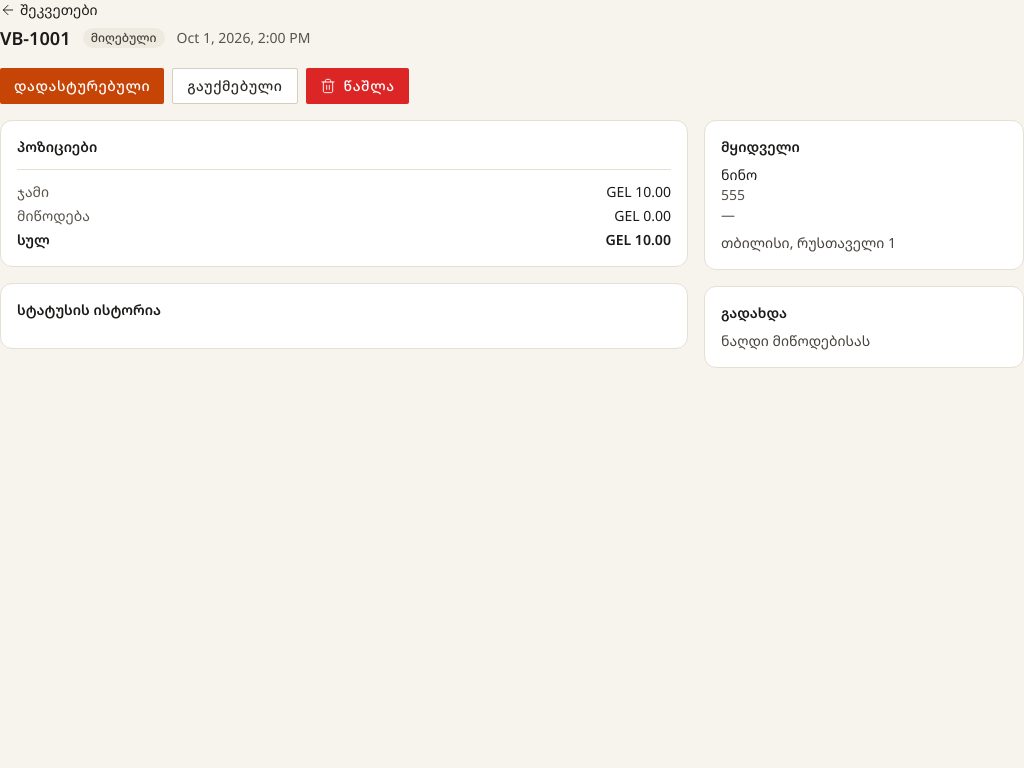
Test case: OrderDetail move to trash › shows the server message and keeps the page usable when trashing fails
Click the button "წაშლა" at (357, 86), box [306,68,409,104]
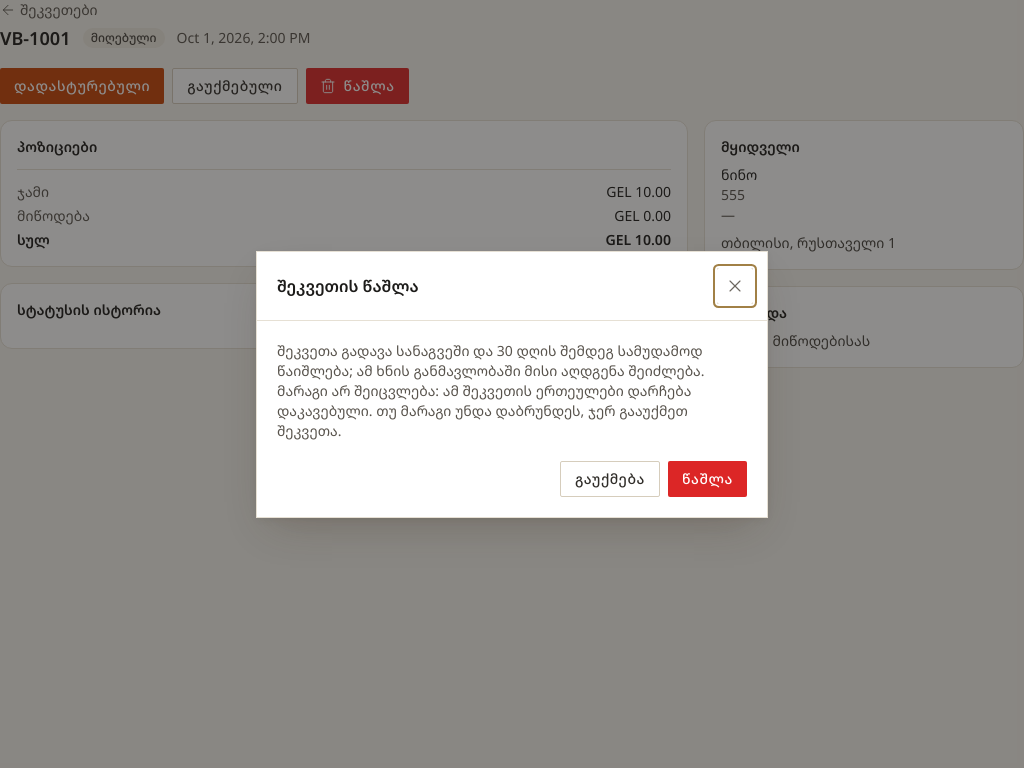
Click the button "წაშლა" at (708, 478), box [668,460,747,496]
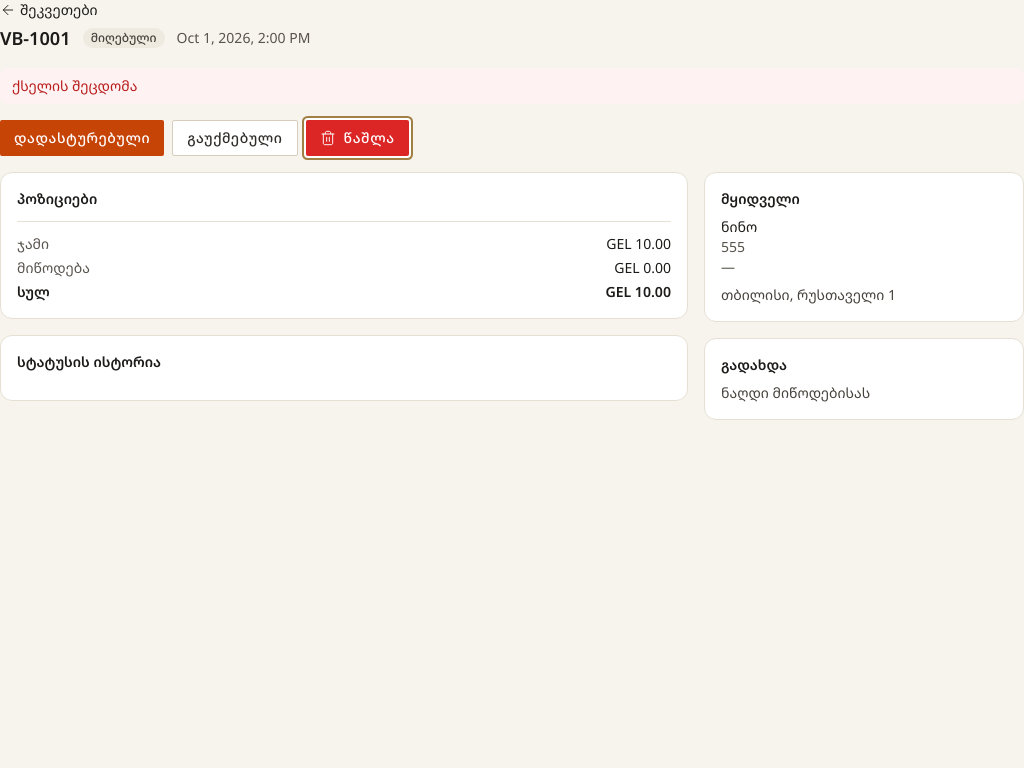
Expected: the button "წაშლა" is enabled, [306,120,409,156]
Now the message reads "ქსელის შეცდომა", box [12,76,137,95]
